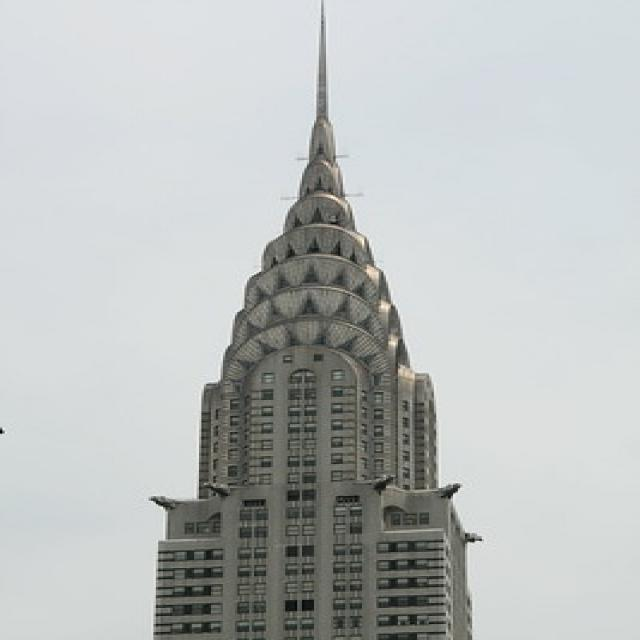Normal_building: (146, 171, 484, 640)
